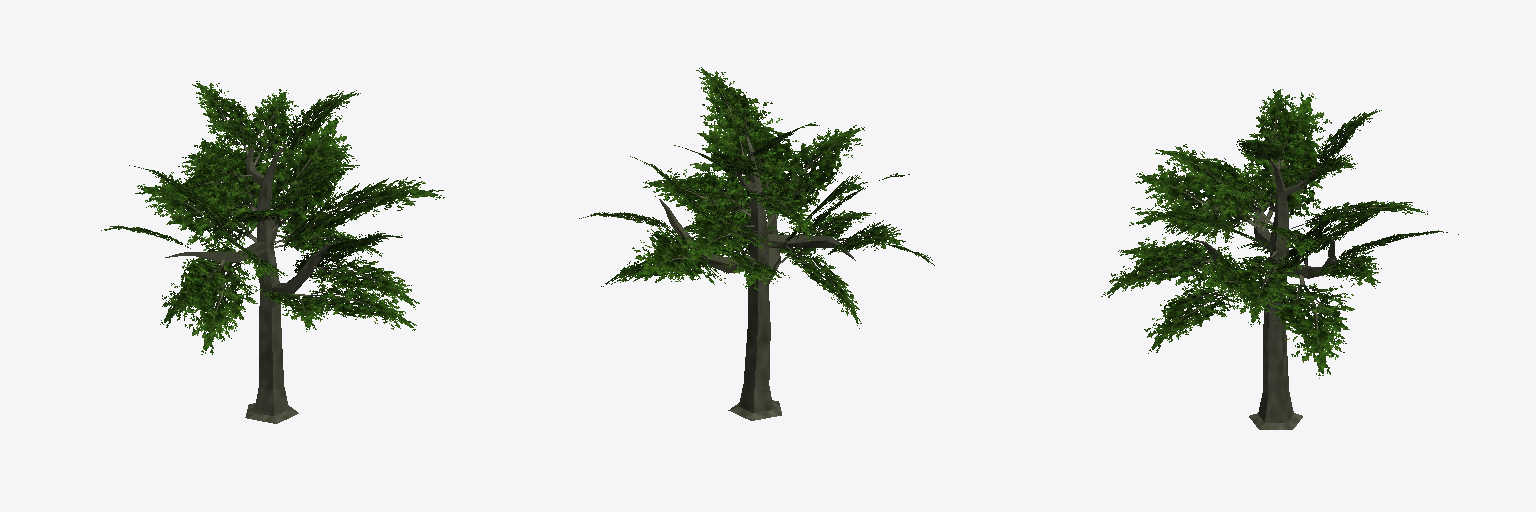
3 views of the same model, side by side, from view 1: azimuth 30°, elevation 25°; view 2: azimuth 150°, elevation 25°; view 3: azimuth 270°, elevation 25° (orthographic).
Visible parts, largest first — view 1: Vertex_Object, Vertex_Object_1_1, Vertex_Object_1_12, Vertex_Object_1_17, Vertex_Object_1_8, Vertex_Object_1_24, Vertex_Object_1_7, Vertex_Object_1_15, Vertex_Object_1_19, Vertex_Object_1_13, Vertex_Object_1_14, Vertex_Object_1_23 (+9 smaller); view 2: Vertex_Object, Vertex_Object_1_18, Vertex_Object_1_22, Vertex_Object_1_17, Vertex_Object_1_19, Vertex_Object_1_10, Vertex_Object_1_23, Vertex_Object_1_4, Vertex_Object_1_20, Vertex_Object_1_14, Vertex_Object_1_2, Vertex_Object_1_6 (+4 smaller); view 3: Vertex_Object, Vertex_Object_1_9, Vertex_Object_1_3, Vertex_Object_1, Vertex_Object_1_7, Vertex_Object_1_18, Vertex_Object_1_21, Vertex_Object_1_24, Vertex_Object_1_16, Vertex_Object_1_6, Vertex_Object_1_11, Vertex_Object_1_19 (+8 smaller).
Boxes of the visible parts, x1=… form: Vertex_Object: x1=165, y1=144, x2=344, y2=423; Vertex_Object_1_1: x1=180, y1=258, x2=261, y2=354; Vertex_Object_1_12: x1=244, y1=113, x2=351, y2=235; Vertex_Object_1_17: x1=270, y1=177, x2=444, y2=250; Vertex_Object_1_8: x1=135, y1=172, x2=256, y2=250; Vertex_Object_1_24: x1=304, y1=256, x2=419, y2=309; Vertex_Object_1_7: x1=292, y1=281, x2=416, y2=330; Vertex_Object_1_15: x1=236, y1=89, x2=298, y2=165; Vertex_Object_1_19: x1=178, y1=147, x2=278, y2=214; Vertex_Object_1_13: x1=192, y1=81, x2=257, y2=154; Vertex_Object_1_14: x1=160, y1=160, x2=251, y2=203; Vertex_Object_1_23: x1=277, y1=90, x2=360, y2=156; Vertex_Object: x1=659, y1=139, x2=855, y2=420; Vertex_Object_1_18: x1=762, y1=125, x2=864, y2=226; Vertex_Object_1_22: x1=643, y1=168, x2=750, y2=220; Vertex_Object_1_17: x1=690, y1=89, x2=809, y2=217; Vertex_Object_1_19: x1=676, y1=209, x2=775, y2=265; Vertex_Object_1_10: x1=632, y1=223, x2=725, y2=284; Vertex_Object_1_23: x1=696, y1=67, x2=765, y2=151; Vertex_Object_1_4: x1=785, y1=246, x2=861, y2=328; Vertex_Object_1_20: x1=718, y1=118, x2=783, y2=187; Vertex_Object_1_14: x1=745, y1=189, x2=814, y2=240; Vertex_Object_1_2: x1=828, y1=220, x2=905, y2=254; Vertex_Object_1_6: x1=776, y1=210, x2=875, y2=267; Vertex_Object: x1=1188, y1=160, x2=1336, y2=429; Vertex_Object_1_9: x1=1271, y1=274, x2=1354, y2=378; Vertex_Object_1_3: x1=1235, y1=92, x2=1331, y2=230; Vertex_Object_1: x1=1135, y1=158, x2=1260, y2=249; Vertex_Object_1_7: x1=1144, y1=285, x2=1240, y2=353; Vertex_Object_1_18: x1=1155, y1=144, x2=1272, y2=224; Vertex_Object_1_21: x1=1233, y1=251, x2=1305, y2=326; Vertex_Object_1_24: x1=1101, y1=247, x2=1213, y2=297; Vertex_Object_1_16: x1=1249, y1=89, x2=1306, y2=168; Vertex_Object_1_6: x1=1118, y1=237, x2=1231, y2=294; Vertex_Object_1_11: x1=1314, y1=248, x2=1381, y2=288; Vertex_Object_1_19: x1=1289, y1=200, x2=1427, y2=229.
Bounding box in the file's own units: 9.8 × 9.46 × 10.74.
3 materials, 2 textured.